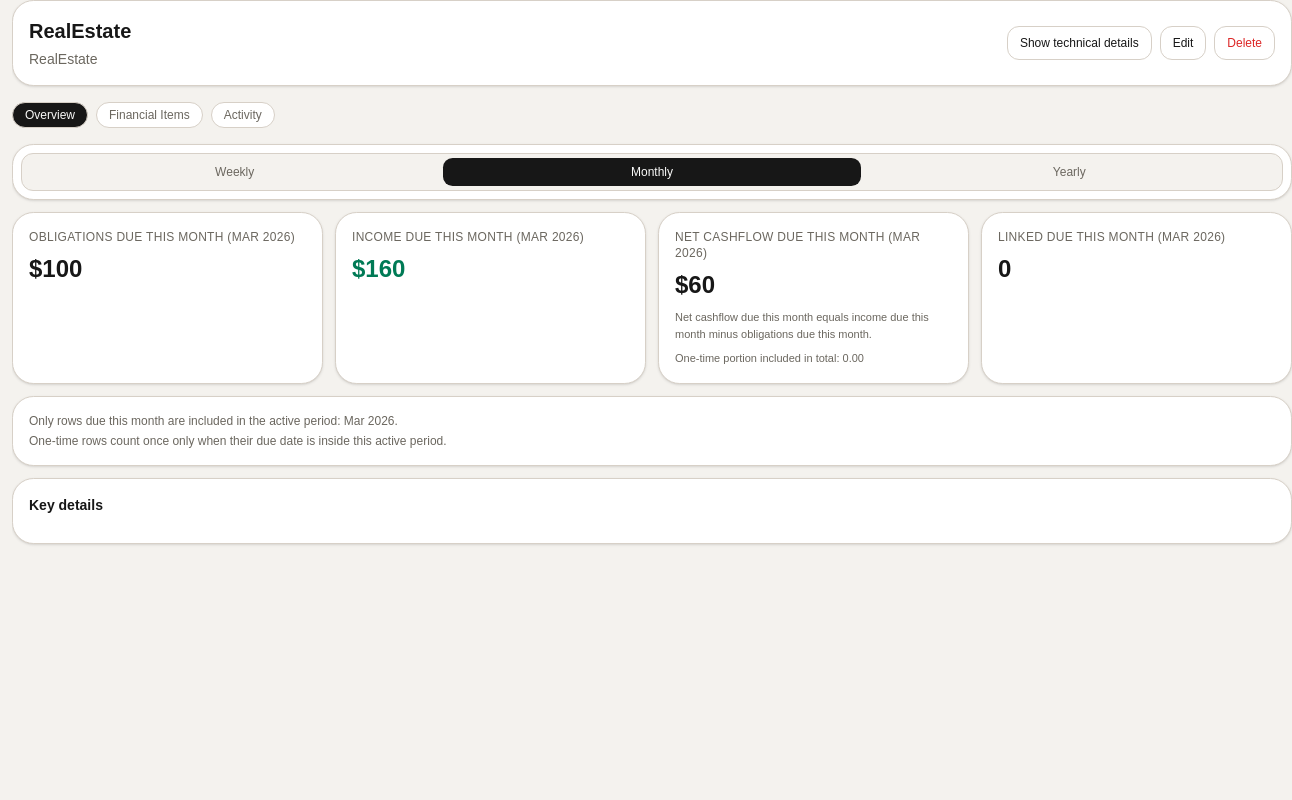
Scenario: item detail events panel › keeps only the latest cadence selection visible during rapid interactions
The width and height of the screenshot is (1292, 800).
Expected: the text "Obligations due this month (Mar 2026)" is shown, 29,229 -> 306,245
Click the button with aria-label "Selected cadence: Weekly" at {"x": 235, "y": 172}, box 26,158 -> 443,186
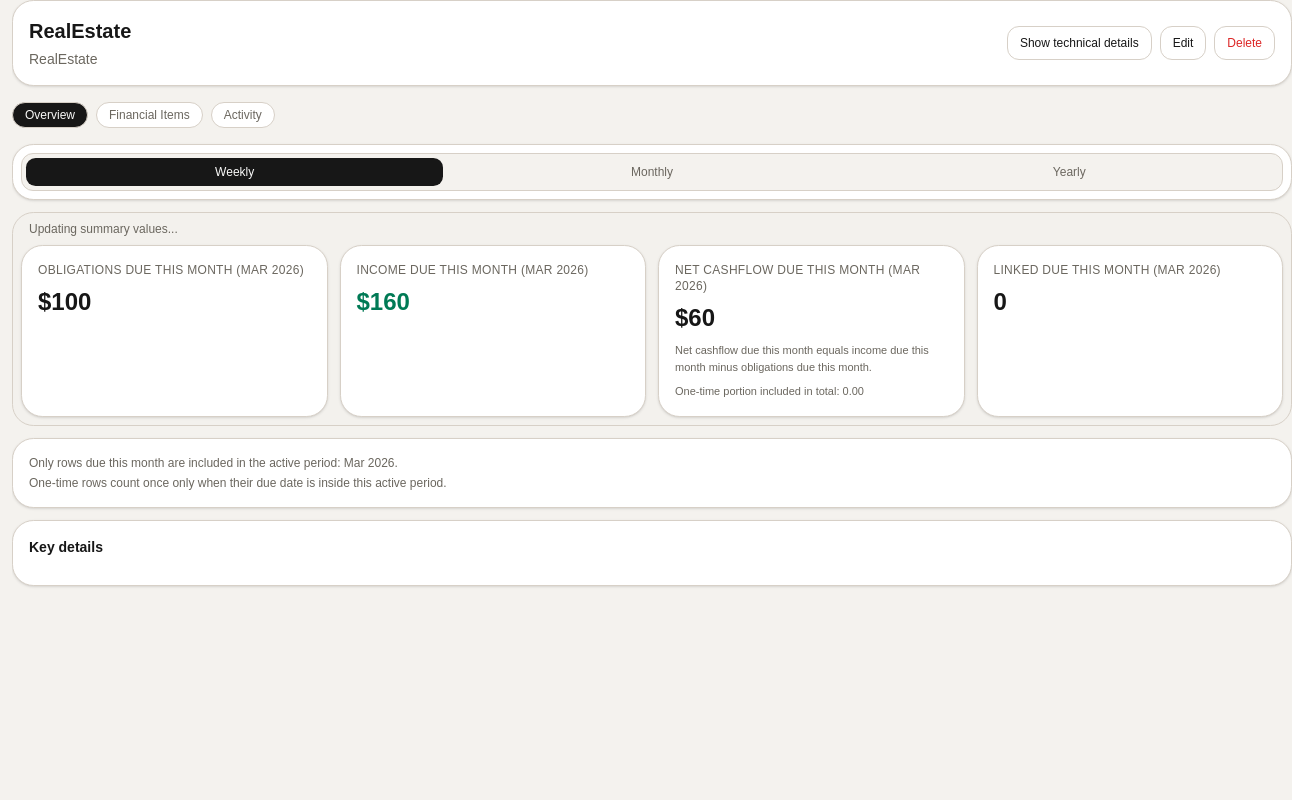
Click the button with aria-label "Selected cadence: Yearly" at {"x": 1069, "y": 172}, box 861,158 -> 1278,186
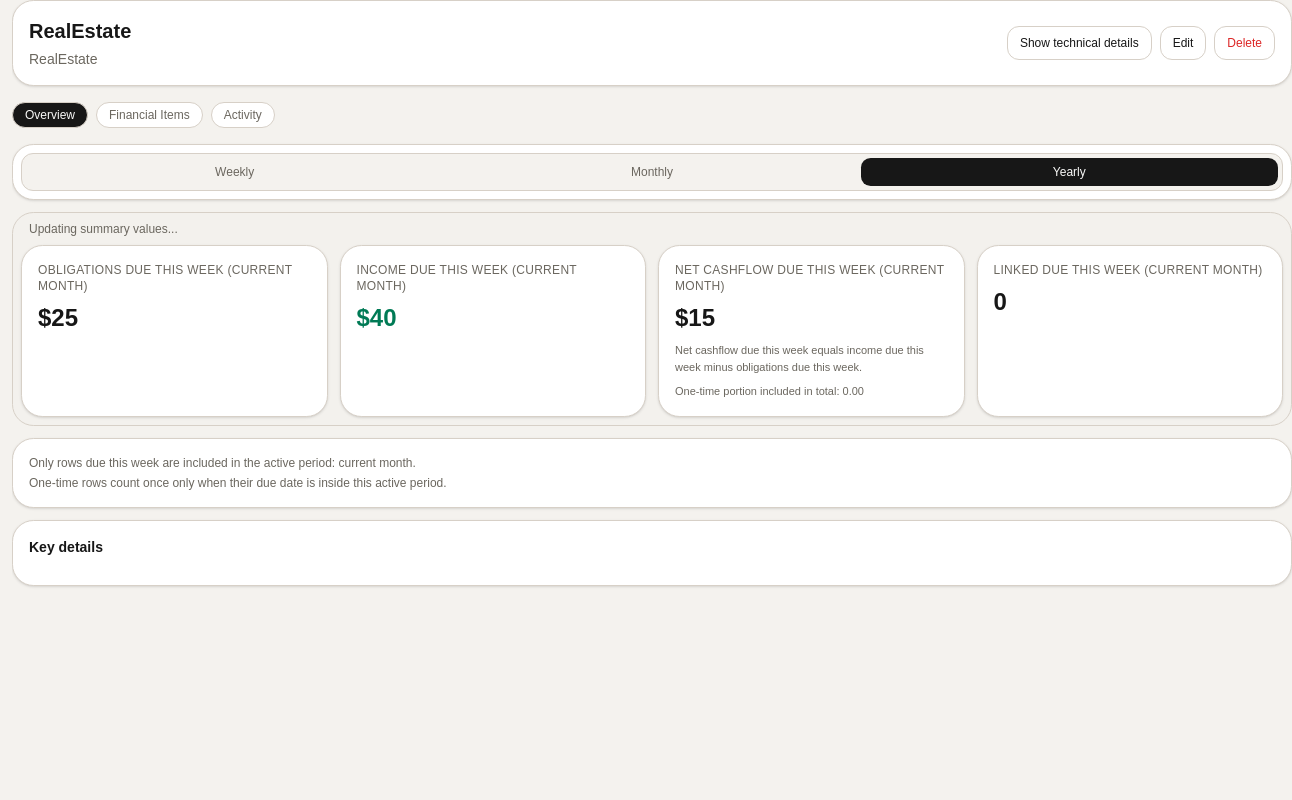
Click the button with aria-label "Selected cadence: Monthly" at {"x": 652, "y": 172}, box 443,158 -> 861,186
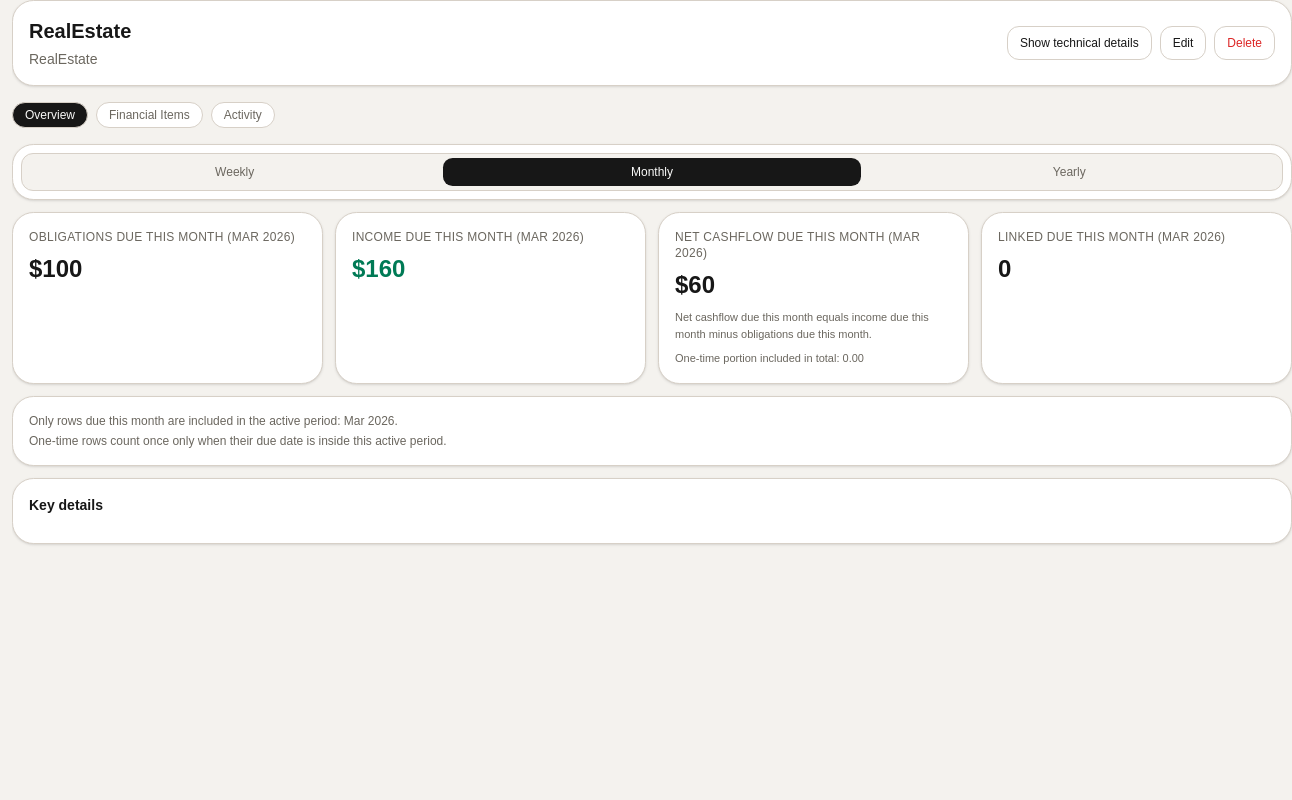
Expected: the text "Obligations due this month (Mar 2026)" is shown, 29,229 -> 306,245
Expected: the text "Income due this month (Mar 2026)" is shown, 352,230 -> 584,244
Expected: the text "Net cashflow due this month (Mar 2026)" is shown, 675,229 -> 952,261
